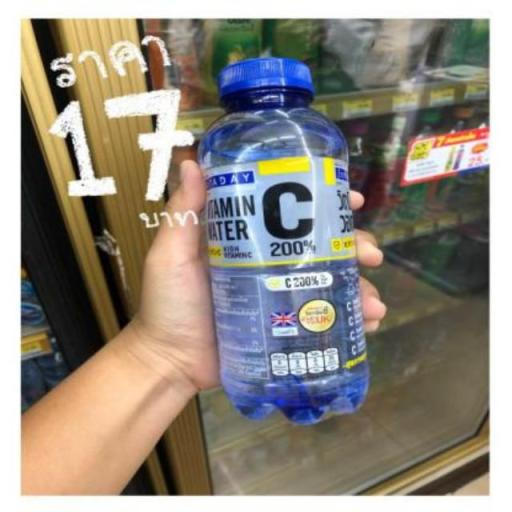Coca: (191, 52, 380, 436)
